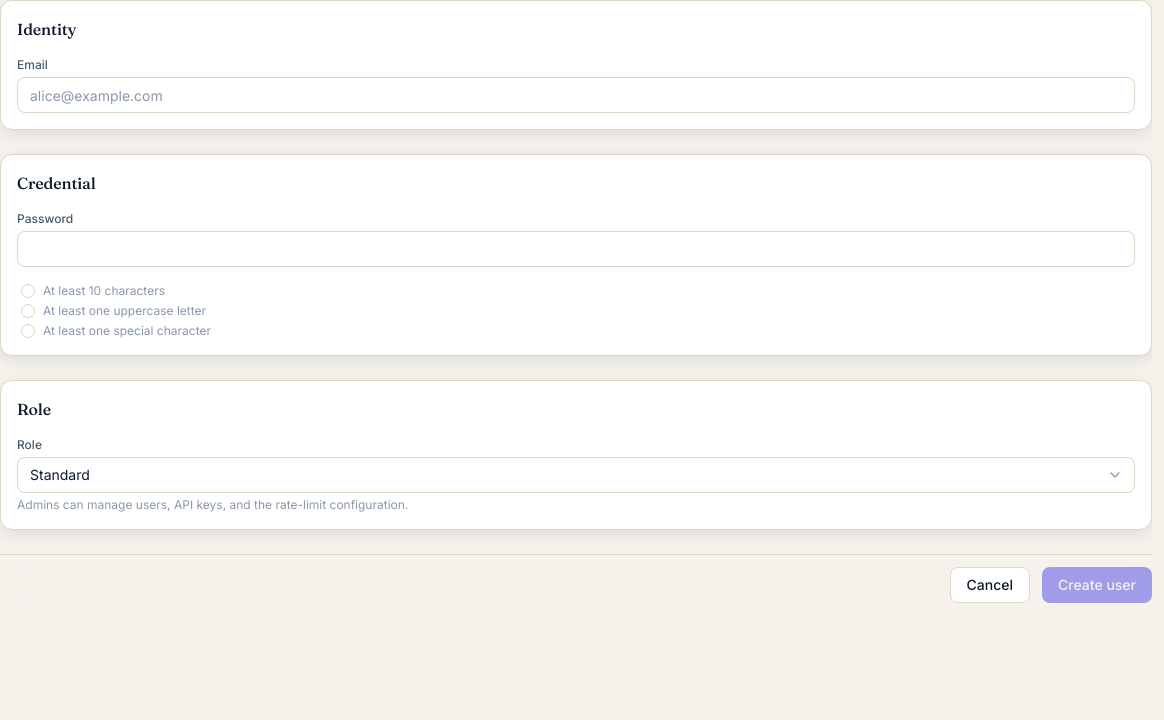
Test: UserForm › 400 VALIDATION_ERROR on email: maps server field message to the email input
Type "a@reserved.com" into the field labelled "Email" at x=576, y=95, box [17,77,1135,113]
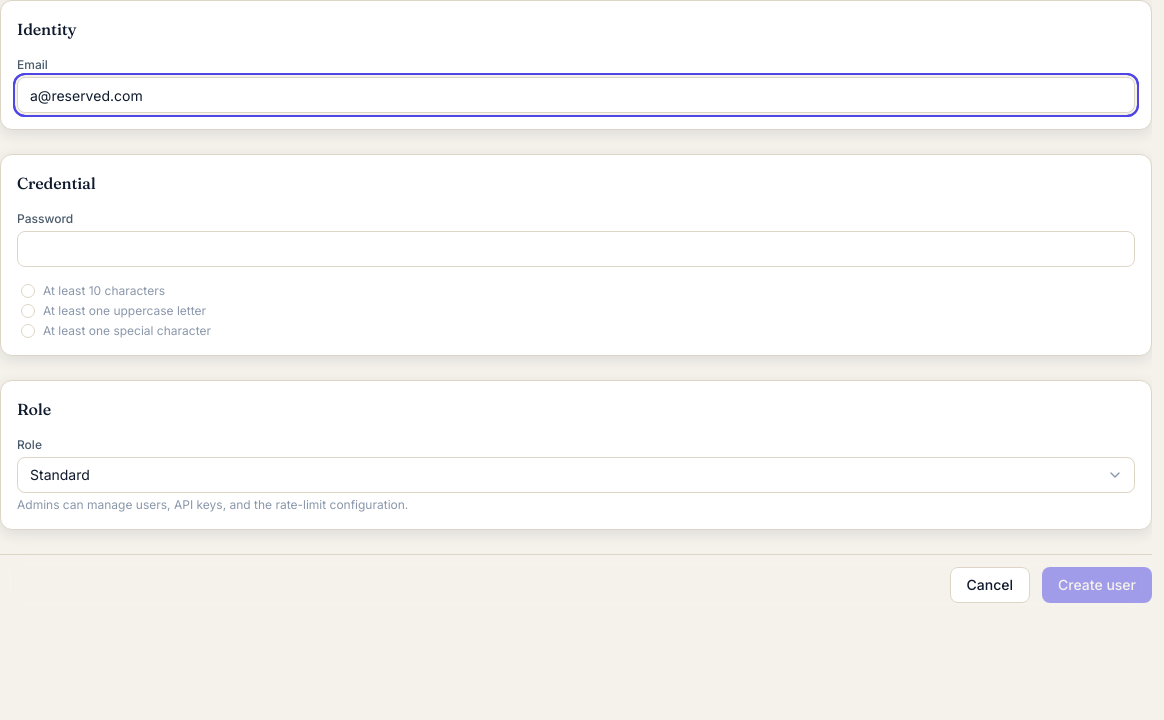
Type "AValid!Pw1" into the password field labelled "Password" at x=576, y=249, box [17,231,1135,267]
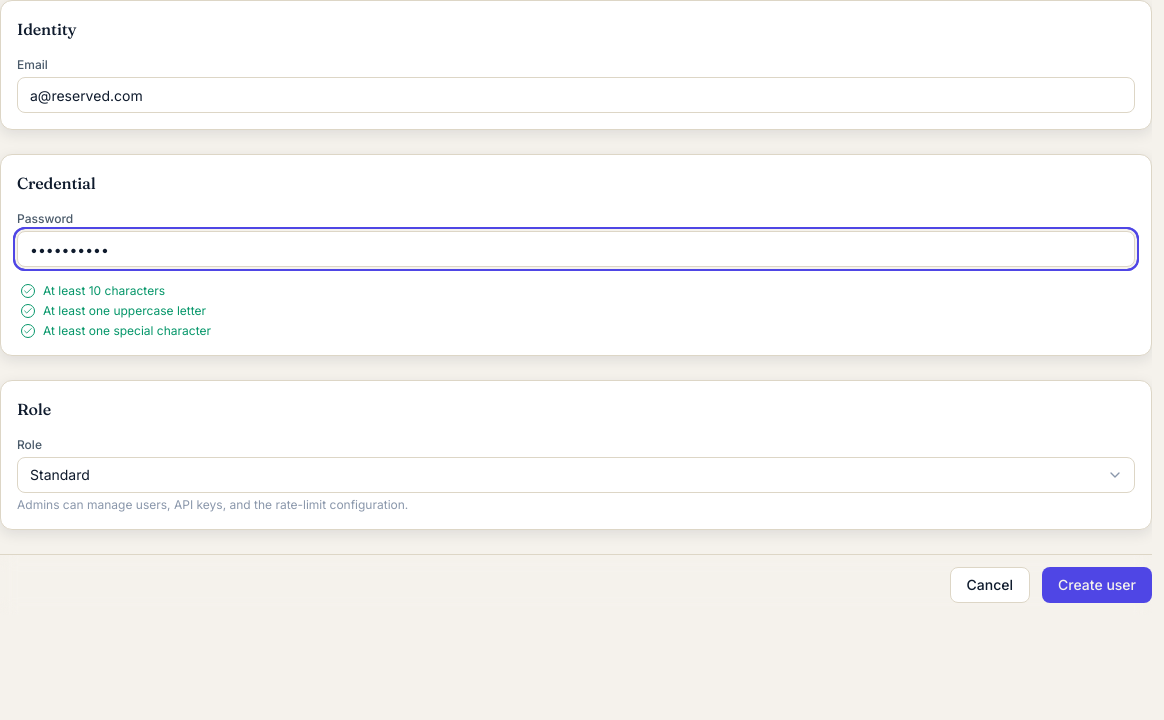
Click the button "Create user" at x=1097, y=585, box [1042,567,1152,603]
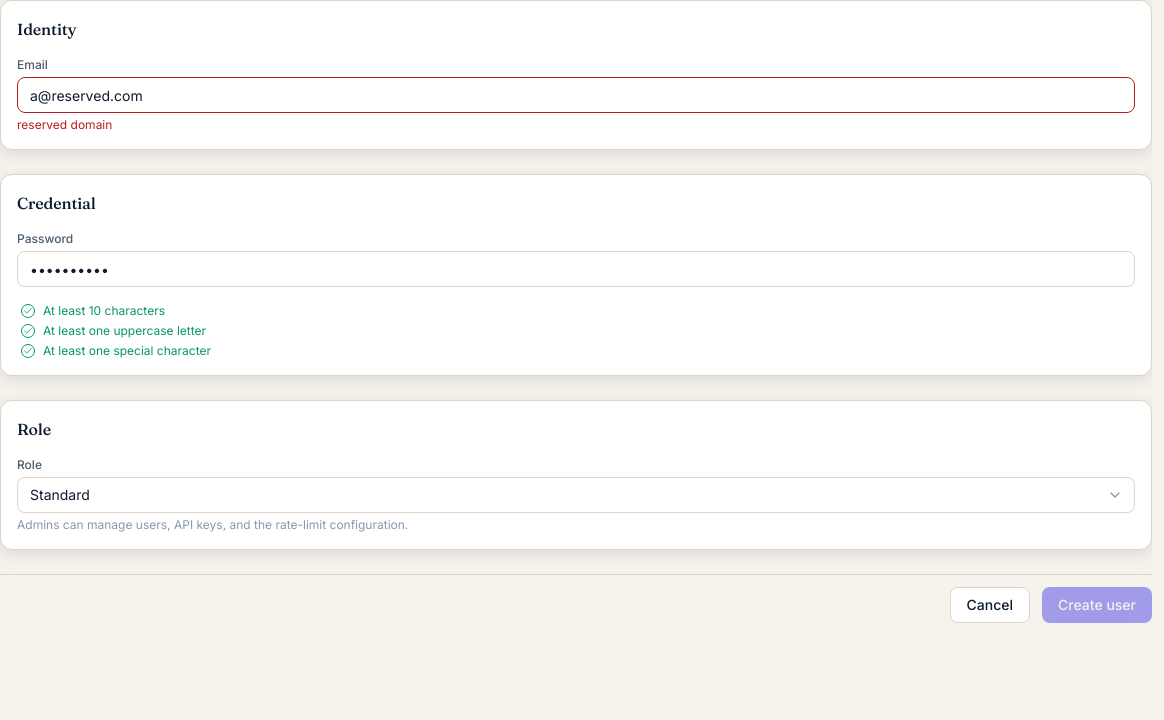
Now the text "reserved domain" is shown, box [17,117,112,132]
